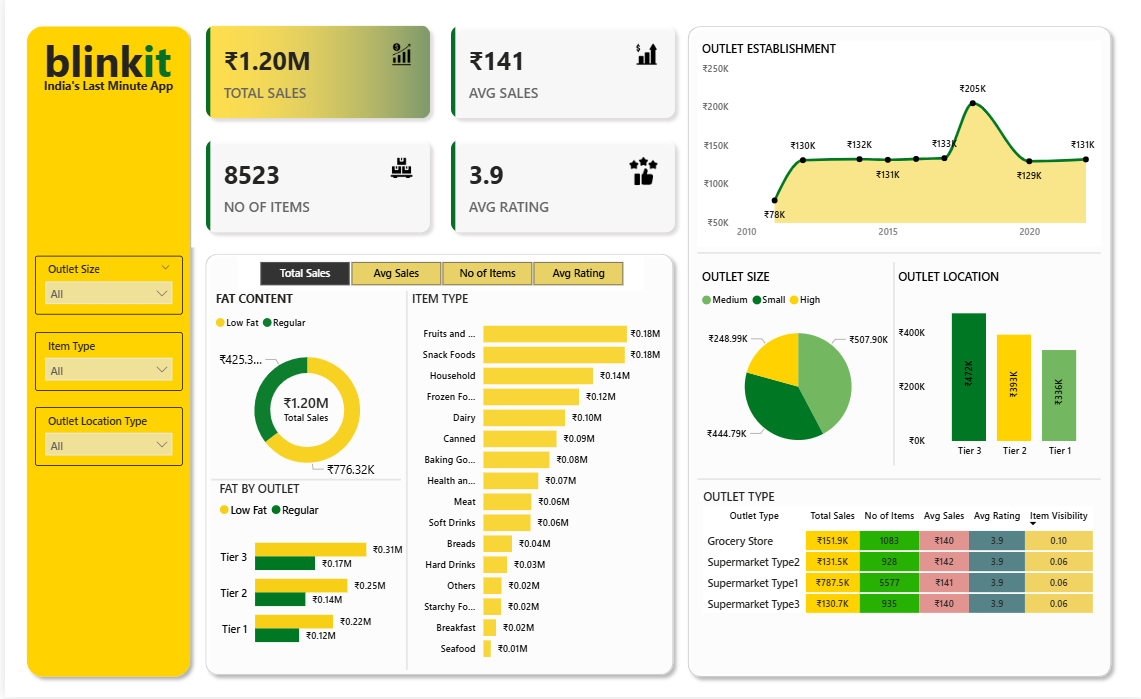

Layout of this report page (visuals, bound fields, positions):
{"tool":"powerbi","page":{"name":"Page 1","canvas":[1300,800],"ordinal":0},"visuals":[{"type":"shape","box":[15.8,23.6,204.9,761.6],"z":0},{"type":"textbox","box":[34.5,34.5,166.5,76.8],"z":1000},{"type":"textbox","box":[32.5,87.7,170.4,32.5],"z":2000},{"type":"cardVisual","fields":{"Data":["BlinkIT Grocery Data.Total Sales","BlinkIT Grocery Data.Avg Sales","BlinkIT Grocery Data.No of Items","BlinkIT Grocery Data.Avg Rating"]},"box":[212.2,15.6,570,270],"z":3000},{"type":"shape","box":[220.7,284.7,552.7,499.5],"z":4000},{"type":"donutChart","title":"FAT CONTENT","fields":{"Y":["BlinkIT Grocery Data.Total Sales"],"Category":["BlinkIT Grocery Data.Item Fat Content"]},"box":[235.5,336,219.7,227.6],"z":5000},{"type":"slicer","fields":{"Values":["Metrics.Metrics"]},"box":[265,295.6,465,40.4],"z":6000},{"type":"cardVisual","fields":{"Data":["BlinkIT Grocery Data.Total Sales"]},"box":[299.5,434.5,88.7,71.9],"z":7000},{"type":"clusteredBarChart","title":"FAT BY OUTLET","fields":{"Y":["BlinkIT Grocery Data.Total Sales"],"Category":["BlinkIT Grocery Data.Outlet Location Type"],"Series":["BlinkIT Grocery Data.Item Fat Content"]},"box":[239.9,552.3,219.8,207.8],"z":8000},{"type":"shape","box":[235.5,535,216.7,34.5],"z":9000},{"type":"shape","box":[453.2,336,12.8,433.5],"z":10000},{"type":"barChart","title":"ITEM TYPE","fields":{"Y":["BlinkIT Grocery Data.Total Sales"],"Category":["BlinkIT Grocery Data.Item Type"]},"box":[460.1,336,294.6,433.5],"z":11000},{"type":"shape","box":[770.9,23.6,501.8,761.8],"z":12000},{"type":"lineChart","title":"OUTLET ESTABLISHMENT","fields":{"Category":["BlinkIT Grocery Data.Outlet Establishment Year"],"Y":["BlinkIT Grocery Data.Total Sales"]},"box":[791.1,50.2,461.1,235.5],"z":13000},{"type":"shape","box":[791.1,275.9,461.1,33.5],"z":14000},{"type":"pieChart","title":"OUTLET SIZE","fields":{"Category":["BlinkIT Grocery Data.Outlet Size"],"Y":["BlinkIT Grocery Data.Total Sales"]},"box":[791.1,309.4,230.5,225.6],"z":15000},{"type":"shape","box":[1007.9,302.5,14.8,232.5],"z":16000},{"type":"columnChart","title":"OUTLET LOCATION","fields":{"Category":["BlinkIT Grocery Data.Outlet Location Type"],"Y":["BlinkIT Grocery Data.Total Sales"]},"box":[1015.8,309.4,236.5,225.6],"z":17000},{"type":"pivotTable","title":"OUTLET TYPE","fields":{"Rows":["BlinkIT Grocery Data.Outlet Type"],"Values":["BlinkIT Grocery Data.Total Sales","BlinkIT Grocery Data.No of Items","BlinkIT Grocery Data.Avg Sales","BlinkIT Grocery Data.Avg Rating","Avg(BlinkIT Grocery Data.Item Visibility)"]},"box":[793.1,561.6,459.1,170.4],"z":18000},{"type":"shape","box":[791.1,535,461.1,33.5],"z":19000},{"type":"slicer","fields":{"Values":["BlinkIT Grocery Data.Outlet Size"]},"box":[34.5,295.6,168.5,67],"z":20000},{"type":"slicer","fields":{"Values":["BlinkIT Grocery Data.Item Type"]},"box":[34.5,383.3,168.5,67],"z":21000},{"type":"slicer","fields":{"Values":["BlinkIT Grocery Data.Outlet Location Type"]},"box":[34.5,468,168.5,67],"z":22000}]}

Visuals, with their boxes in screenshot pixels (x1, y1, x2, y2), scaled from the page's 1300x800 canvas onto the 1141x699 screenshot:
shape: l=14, t=21, r=194, b=686
textbox: l=30, t=30, r=176, b=97
textbox: l=29, t=77, r=178, b=105
cardVisual - BlinkIT Grocery Data.Total Sales x BlinkIT Grocery Data.Avg Sales: l=186, t=14, r=687, b=250
shape: l=194, t=249, r=679, b=685
"FAT CONTENT" donutChart: l=207, t=294, r=400, b=492
slicer - Metrics.Metrics: l=233, t=258, r=641, b=294
cardVisual - BlinkIT Grocery Data.Total Sales: l=263, t=380, r=341, b=442
"FAT BY OUTLET" clusteredBarChart: l=211, t=483, r=403, b=664
shape: l=207, t=467, r=397, b=498
shape: l=398, t=294, r=409, b=672
"ITEM TYPE" barChart: l=404, t=294, r=662, b=672
shape: l=677, t=21, r=1117, b=686
"OUTLET ESTABLISHMENT" lineChart: l=694, t=44, r=1099, b=250
shape: l=694, t=241, r=1099, b=270
"OUTLET SIZE" pieChart: l=694, t=270, r=897, b=467
shape: l=885, t=264, r=898, b=467
"OUTLET LOCATION" columnChart: l=892, t=270, r=1099, b=467
"OUTLET TYPE" pivotTable: l=696, t=491, r=1099, b=640
shape: l=694, t=467, r=1099, b=497
slicer - BlinkIT Grocery Data.Outlet Size: l=30, t=258, r=178, b=317
slicer - BlinkIT Grocery Data.Item Type: l=30, t=335, r=178, b=393
slicer - BlinkIT Grocery Data.Outlet Location Type: l=30, t=409, r=178, b=467
